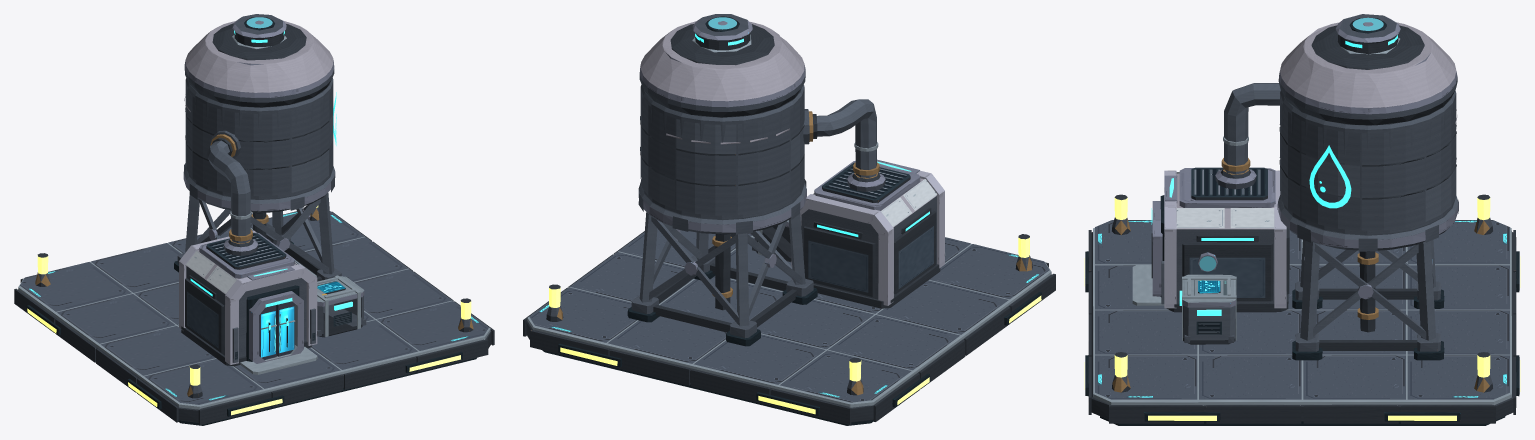
File: TA01_TorreDeAguaBasica_Distancia.fbx
3 views of the same model, side by side, from view 1: azimuth 30°, elevation 25°; view 2: azimuth 150°, elevation 25°; view 3: azimuth 270°, elevation 25° (orthographic). The views are drawn at different scales.
Parts seen in each view (by area): view 1: EstructuraDistante_1; view 2: EstructuraDistante_1; view 3: EstructuraDistante_1, CristalYAguaDistantes_1.
Part boxes in pixels (x1=…): EstructuraDistante_1: x1=14, y1=14, x2=494, y2=425; EstructuraDistante_1: x1=523, y1=14, x2=1055, y2=425; EstructuraDistante_1: x1=1084, y1=14, x2=1520, y2=425; CristalYAguaDistantes_1: x1=1199, y1=17, x2=1383, y2=271.
Size of the model in its own units: 5.37 by 4.43 by 5.25.
